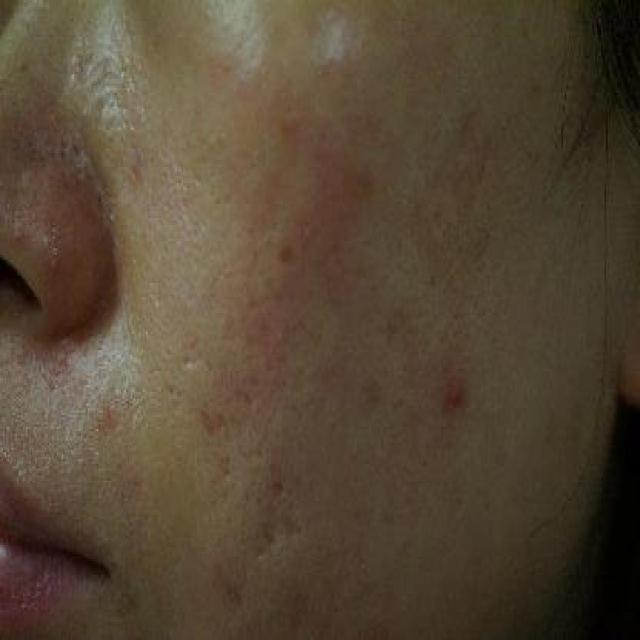dark spot: (426, 369, 474, 429), (114, 142, 152, 190), (269, 104, 303, 153), (266, 232, 299, 274)
